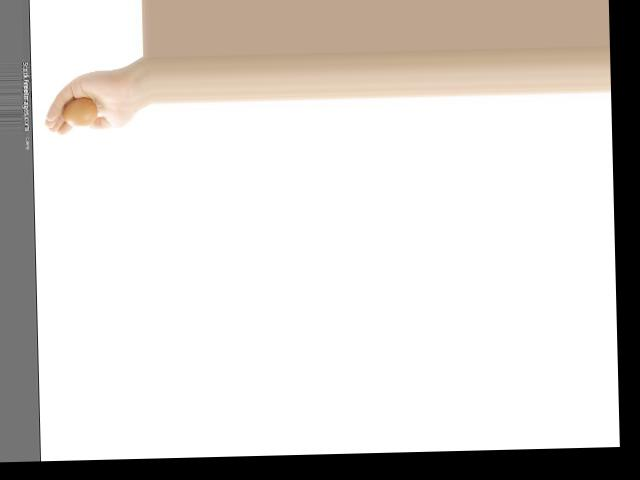egg: (60, 98, 98, 126)
